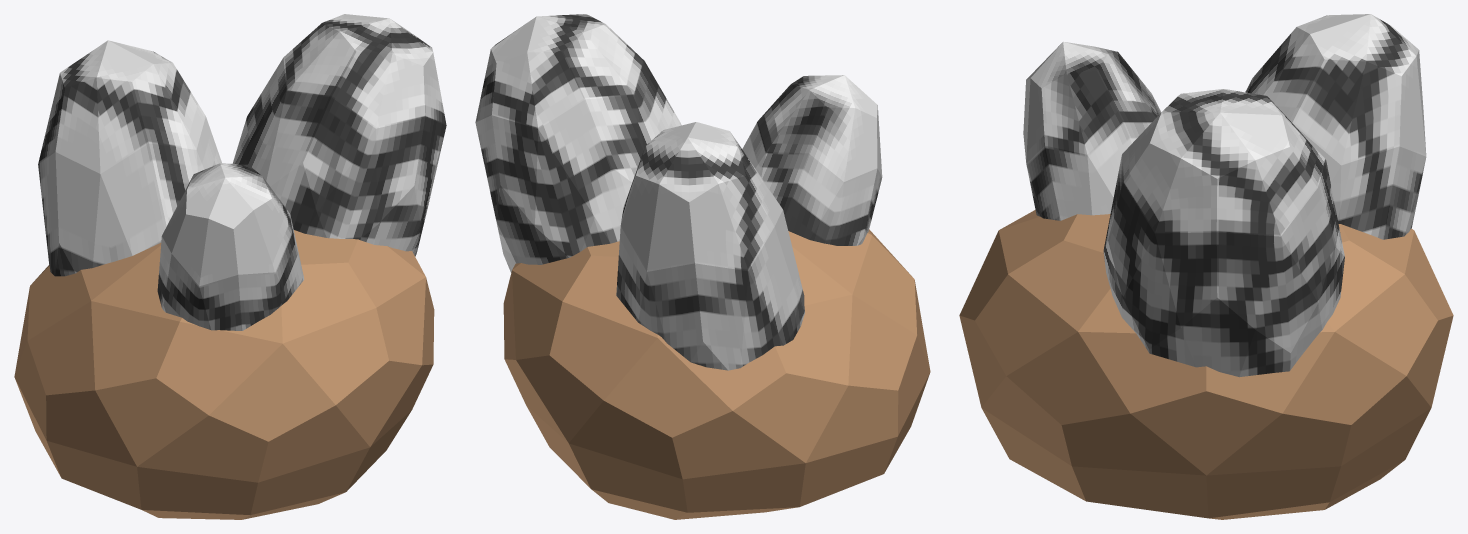
The model's file is SM_IronOreRock.fbx.
3 views of the same model, side by side, from view 1: azimuth 30°, elevation 25°; view 2: azimuth 150°, elevation 25°; view 3: azimuth 270°, elevation 25° (orthographic). The views are drawn at different scales.
Visible parts, largest first — view 1: IronOreRock; view 2: IronOreRock; view 3: IronOreRock.
Boxes of the visible parts, box(x1,y1,x2,y2) form: IronOreRock: box(14, 14, 446, 519); IronOreRock: box(475, 14, 930, 519); IronOreRock: box(959, 14, 1453, 519).
Bounding box in the file's own units: 88.92 × 87.04 × 84.76.
